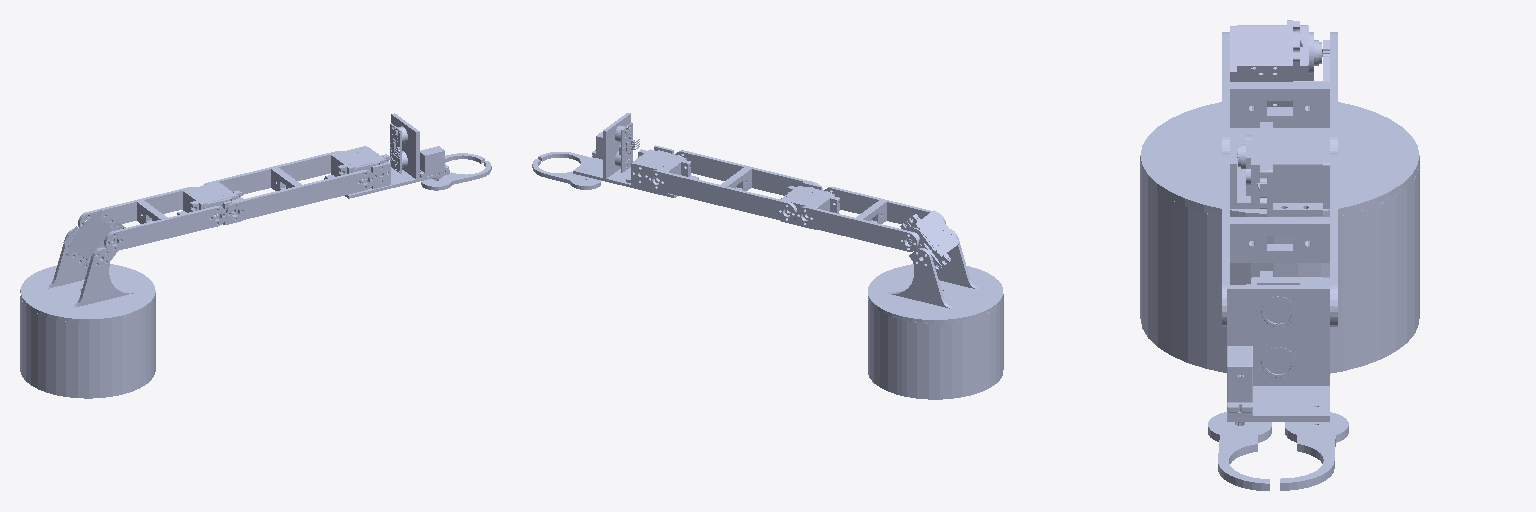
robot.urdf — ASSEM 2:
<?xml version="1.0" encoding="utf-8"?>
<!-- This URDF was automatically created by SolidWorks to URDF Exporter! Originally created by [author] ([email redacted]) 
     Commit Version: 1.6.0-4-g7f85cfe  Build Version: 1.6.7995.38578
     For more information, please see http://wiki.ros.org/sw_urdf_exporter -->
<robot
  name="ASSEM 2">
  <link
    name="base_link">
    <inertial>
      <origin
        xyz="0 -1.38777878078145E-17 0.04"
        rpy="0 0 0" />
      <mass
        value="0.15707963267949" />
      <inertia
        ixx="0.000391062835524979"
        ixy="-6.21980377065526E-36"
        ixz="9.88120452211026E-36"
        iyy="0.000391062835524979"
        iyz="7.61962617655533E-36"
        izz="0.000614574062858504" />
    </inertial>
    <visual>
      <origin
        xyz="0 0 0"
        rpy="0 0 0" />
      <geometry>
        <mesh
          filename="package://ASSEM 2/meshes/base_link.STL" />
      </geometry>
      <material
        name="">
        <color
          rgba="0.792156862745098 0.819607843137255 0.933333333333333 1" />
      </material>
    </visual>
    <collision>
      <origin
        xyz="0 0 0"
        rpy="0 0 0" />
      <geometry>
        <mesh
          filename="package://ASSEM 2/meshes/base_link.STL" />
      </geometry>
    </collision>
  </link>
  <link
    name="link1">
    <inertial>
      <origin
        xyz="0.00277146259382868 -0.000977617047691587 0.0392275940929765"
        rpy="0 0 0" />
      <mass
        value="0.10392584627471" />
      <inertia
        ixx="8.06918285221046E-05"
        ixy="2.30972045071663E-07"
        ixz="-1.9180114960661E-06"
        iyy="7.3013450070366E-05"
        iyz="2.74033815861125E-07"
        izz="0.000130206094147028" />
    </inertial>
    <visual>
      <origin
        xyz="0 0 0"
        rpy="0 0 0" />
      <geometry>
        <mesh
          filename="package://ASSEM 2/meshes/link1.STL" />
      </geometry>
      <material
        name="">
        <color
          rgba="0.792156862745098 0.819607843137255 0.933333333333333 1" />
      </material>
    </visual>
    <collision>
      <origin
        xyz="0 0 0"
        rpy="0 0 0" />
      <geometry>
        <mesh
          filename="package://ASSEM 2/meshes/link1.STL" />
      </geometry>
    </collision>
  </link>
  <joint
    name="joint1"
    type="revolute">
    <origin
      xyz="0 0 0.065295"
      rpy="0 0 0" />
    <parent
      link="base_link" />
    <child
      link="link1" />
    <axis
      xyz="0 0 1" />
    <limit
      lower="-3.14"
      upper="3.14"
      effort="2.5"
      velocity="5.7596" />
  </joint>
  <link
    name="link2">
    <inertial>
      <origin
        xyz="0.0569964644660941 3.53553390591843E-06 0.0815648422319146"
        rpy="0 0 0" />
      <mass
        value="0.0258099114254626" />
      <inertia
        ixx="1.44147403776671E-05"
        ixy="1.81535013758361E-22"
        ixz="-5.04505810029323E-21"
        iyy="2.38689128817972E-05"
        iyz="-7.93599878540724E-22"
        izz="1.12484016319642E-05" />
    </inertial>
    <visual>
      <origin
        xyz="0 0 0"
        rpy="0 0 0" />
      <geometry>
        <mesh
          filename="package://ASSEM 2/meshes/link2.STL" />
      </geometry>
      <material
        name="">
        <color
          rgba="0.792156862745098 0.819607843137255 0.933333333333333 1" />
      </material>
    </visual>
    <collision>
      <origin
        xyz="0 0 0"
        rpy="0 0 0" />
      <geometry>
        <mesh
          filename="package://ASSEM 2/meshes/link2.STL" />
      </geometry>
    </collision>
  </link>
  <joint
    name="joint2"
    type="revolute">
    <origin
      xyz="0.014245 -0.081565 0.077949"
      rpy="-1.5708 0 0" />
    <parent
      link="link1" />
    <child
      link="link2" />
    <axis
      xyz="0 0 -1" />
    <limit
      lower="-3.14"
      upper="3.14"
      effort="2.5"
      velocity="5.7596" />
  </joint>
  <link
    name="link3">
    <inertial>
      <origin
        xyz="0.046197265017532 0.000921908863603743 0.0830187996806798"
        rpy="0 0 0" />
      <mass
        value="0.0698780274199756" />
      <inertia
        ixx="2.44614411888194E-05"
        ixy="1.5239249627081E-08"
        ixz="3.57093070464471E-07"
        iyy="4.70199977946402E-05"
        iyz="3.04492741754065E-08"
        izz="2.75333599269246E-05" />
    </inertial>
    <visual>
      <origin
        xyz="0 0 0"
        rpy="0 0 0" />
      <geometry>
        <mesh
          filename="package://ASSEM 2/meshes/link3.STL" />
      </geometry>
      <material
        name="">
        <color
          rgba="0.792156862745098 0.819607843137255 0.933333333333333 1" />
      </material>
    </visual>
    <collision>
      <origin
        xyz="0 0 0"
        rpy="0 0 0" />
      <geometry>
        <mesh
          filename="package://ASSEM 2/meshes/link3.STL" />
      </geometry>
    </collision>
  </link>
  <joint
    name="joint3"
    type="revolute">
    <origin
      xyz="0.114 0 0"
      rpy="0 0 0" />
    <parent
      link="link2" />
    <child
      link="link3" />
    <axis
      xyz="0 0 -1" />
    <limit
      lower="-3.14"
      upper="3.14"
      effort="2.5"
      velocity="5.7596" />
  </joint>
  <link
    name="link4">
    <inertial>
      <origin
        xyz="0.0314868755239737 0.00191709912704482 0.0215200689134932"
        rpy="0 0 0" />
      <mass
        value="0.0770831626214746" />
      <inertia
        ixx="1.81599660334155E-05"
        ixy="2.87203989654407E-06"
        ixz="4.28919539038607E-07"
        iyy="3.64659853084218E-05"
        iyz="5.40034548023353E-08"
        izz="3.35780702510269E-05" />
    </inertial>
    <visual>
      <origin
        xyz="0 0 0"
        rpy="0 0 0" />
      <geometry>
        <mesh
          filename="package://ASSEM 2/meshes/link4.STL" />
      </geometry>
      <material
        name="">
        <color
          rgba="0.792156862745098 0.819607843137255 0.933333333333333 1" />
      </material>
    </visual>
    <collision>
      <origin
        xyz="0 0 0"
        rpy="0 0 0" />
      <geometry>
        <mesh
          filename="package://ASSEM 2/meshes/link4.STL" />
      </geometry>
    </collision>
  </link>
  <joint
    name="joint4"
    type="revolute">
    <origin
      xyz="0.16414 0 0.059214"
      rpy="0 0 0" />
    <parent
      link="link3" />
    <child
      link="link4" />
    <axis
      xyz="0 0 -1" />
    <limit
      lower="0"
      upper="0"
      effort="0"
      velocity="0" />
  </joint>
  <link
    name="gripkiri">
    <inertial>
      <origin
        xyz="0.0140725750696402 -3.99786310250339E-05 -0.0537459245884662"
        rpy="0 0 0" />
      <mass
        value="0.00468228410417343" />
      <inertia
        ixx="2.37887235512241E-07"
        ixy="-6.78988706974305E-08"
        ixz="-1.14877427543648E-22"
        iyy="2.06560886388221E-06"
        iyz="-3.84647594319501E-24"
        izz="2.29101000844999E-06" />
    </inertial>
    <visual>
      <origin
        xyz="0 0 0"
        rpy="0 0 0" />
      <geometry>
        <mesh
          filename="package://ASSEM 2/meshes/gripkiri.STL" />
      </geometry>
      <material
        name="">
        <color
          rgba="0.792156862745098 0.819607843137255 0.933333333333333 1" />
      </material>
    </visual>
    <collision>
      <origin
        xyz="0 0 0"
        rpy="0 0 0" />
      <geometry>
        <mesh
          filename="package://ASSEM 2/meshes/gripkiri.STL" />
      </geometry>
    </collision>
  </link>
  <joint
    name="gripkiri"
    type="revolute">
    <origin
      xyz="0.083525 0.077946 0.039501"
      rpy="-1.5708 0 0" />
    <parent
      link="link4" />
    <child
      link="gripkiri" />
    <axis
      xyz="0 0 -1" />
    <limit
      lower="-3.14"
      upper="3.14"
      effort="0.21575"
      velocity="10.47" />
  </joint>
  <link
    name="endkiri">
    <inertial>
      <origin
        xyz="-0.343708506679782 0.00010287486843924 0.0204662433594579"
        rpy="0 0 0" />
      <mass
        value="0.443141170884827" />
      <inertia
        ixx="0.00146787791830436"
        ixy="-1.44636011547407E-05"
        ixz="0.00186172597660297"
        iyy="0.00928119668905264"
        iyz="2.51965619442872E-06"
        izz="0.00867223786281813" />
    </inertial>
    <visual>
      <origin
        xyz="0 0 0"
        rpy="0 0 0" />
      <geometry>
        <mesh
          filename="package://ASSEM 2/meshes/endkiri.STL" />
      </geometry>
      <material
        name="">
        <color
          rgba="1 1 1 1" />
      </material>
    </visual>
    <collision>
      <origin
        xyz="0 0 0"
        rpy="0 0 0" />
      <geometry>
        <mesh
          filename="package://ASSEM 2/meshes/endkiri.STL" />
      </geometry>
    </collision>
  </link>
  <joint
    name="endkiri"
    type="fixed">
    <origin
      xyz="0.064689 0.017215 -0.051746"
      rpy="0 0 0" />
    <parent
      link="gripkiri" />
    <child
      link="endkiri" />
    <axis
      xyz="0 0 0" />
  </joint>
  <link
    name="gripkanan">
    <inertial>
      <origin
        xyz="0.0140530439209312 0.000742242506165516 -0.00199999999999999"
        rpy="0 0 0" />
      <mass
        value="0.00468228410417342" />
      <inertia
        ixx="2.3567072390795E-07"
        ixy="-2.35409753323601E-08"
        ixz="-2.85298576796313E-23"
        iyy="2.06782537548649E-06"
        iyz="1.69542094219708E-23"
        izz="2.29101000844998E-06" />
    </inertial>
    <visual>
      <origin
        xyz="0 0 0"
        rpy="0 0 0" />
      <geometry>
        <mesh
          filename="package://ASSEM 2/meshes/gripkanan.STL" />
      </geometry>
      <material
        name="">
        <color
          rgba="0.792156862745098 0.819607843137255 0.933333333333333 1" />
      </material>
    </visual>
    <collision>
      <origin
        xyz="0 0 0"
        rpy="0 0 0" />
      <geometry>
        <mesh
          filename="package://ASSEM 2/meshes/gripkanan.STL" />
      </geometry>
    </collision>
  </link>
  <joint
    name="gripkanan"
    type="revolute">
    <origin
      xyz="0.083475 0.0262 0.003701"
      rpy="-1.5708 0 0" />
    <parent
      link="link4" />
    <child
      link="gripkanan" />
    <axis
      xyz="0 0 0" />
    <limit
      lower="-3.14"
      upper="3.14"
      effort="0.21575"
      velocity="10.47" />
  </joint>
  <link
    name="endkanan">
    <inertial>
      <origin
        xyz="-0.344437034985364 -0.00451712104558857 0.0204662433594592"
        rpy="0 0 0" />
      <mass
        value="0.443141170884827" />
      <inertia
        ixx="0.00146787791830436"
        ixy="-1.44636011547412E-05"
        ixz="0.00186172597660296"
        iyy="0.00928119668905264"
        iyz="2.51965619442886E-06"
        izz="0.00867223786281813" />
    </inertial>
    <visual>
      <origin
        xyz="0 0 0"
        rpy="0 0 0" />
      <geometry>
        <mesh
          filename="package://ASSEM 2/meshes/endkanan.STL" />
      </geometry>
      <material
        name="">
        <color
          rgba="1 1 1 1" />
      </material>
    </visual>
    <collision>
      <origin
        xyz="0 0 0"
        rpy="0 0 0" />
      <geometry>
        <mesh
          filename="package://ASSEM 2/meshes/endkanan.STL" />
      </geometry>
    </collision>
  </link>
  <joint
    name="endkanan"
    type="fixed">
    <origin
      xyz="0.065467 -0.013965 0"
      rpy="0 0 0" />
    <parent
      link="gripkanan" />
    <child
      link="endkanan" />
    <axis
      xyz="0 0 0" />
  </joint>
</robot>

--- What the picture shows (computed from the rendered views, not written in the file) ---
Views: 3 orthographic renders of the robot side by side, from view 1: azimuth 30°, elevation 25°; view 2: azimuth 150°, elevation 25°; view 3: azimuth 270°, elevation 25°.
Model ASSEM 2 with 9 links and 8 joints (6 revolute, 2 fixed), rooted at base_link, posed every joint at zero.
Links seen in each view (by area): view 1: base_link, link1, link3, link4, link2, gripkanan; view 2: base_link, link1, link3, link2, link4, gripkiri; view 3: base_link, link1, link3, link4, link2, gripkiri, gripkanan.
Link boxes in pixels (x1=…): base_link: x1=20, y1=296, x2=155, y2=398; link1: x1=20, y1=209, x2=155, y2=322; link3: x1=177, y1=151, x2=374, y2=224; link4: x1=324, y1=113, x2=449, y2=198; link2: x1=78, y1=187, x2=226, y2=251; gripkanan: x1=421, y1=161, x2=491, y2=190; base_link: x1=868, y1=294, x2=1003, y2=399; link1: x1=868, y1=210, x2=1002, y2=323; link3: x1=647, y1=150, x2=839, y2=229; link2: x1=796, y1=187, x2=945, y2=251; link4: x1=573, y1=113, x2=698, y2=197; gripkiri: x1=532, y1=159, x2=600, y2=189; base_link: x1=1140, y1=164, x2=1419, y2=373; link1: x1=1140, y1=20, x2=1419, y2=216; link3: x1=1222, y1=122, x2=1337, y2=326; link4: x1=1227, y1=271, x2=1329, y2=425; link2: x1=1222, y1=32, x2=1337, y2=152; gripkiri: x1=1280, y1=412, x2=1348, y2=490; gripkanan: x1=1208, y1=412, x2=1271, y2=490.
Size in the robot's own frame: 0.5063 by 0.13 by 0.1802 metres.
7 mesh visuals loaded from 9 distinct referenced files (7 binary STL); not drawn: 1 (reference not matched to a file when rendering), 1 (file found but could not be loaded).